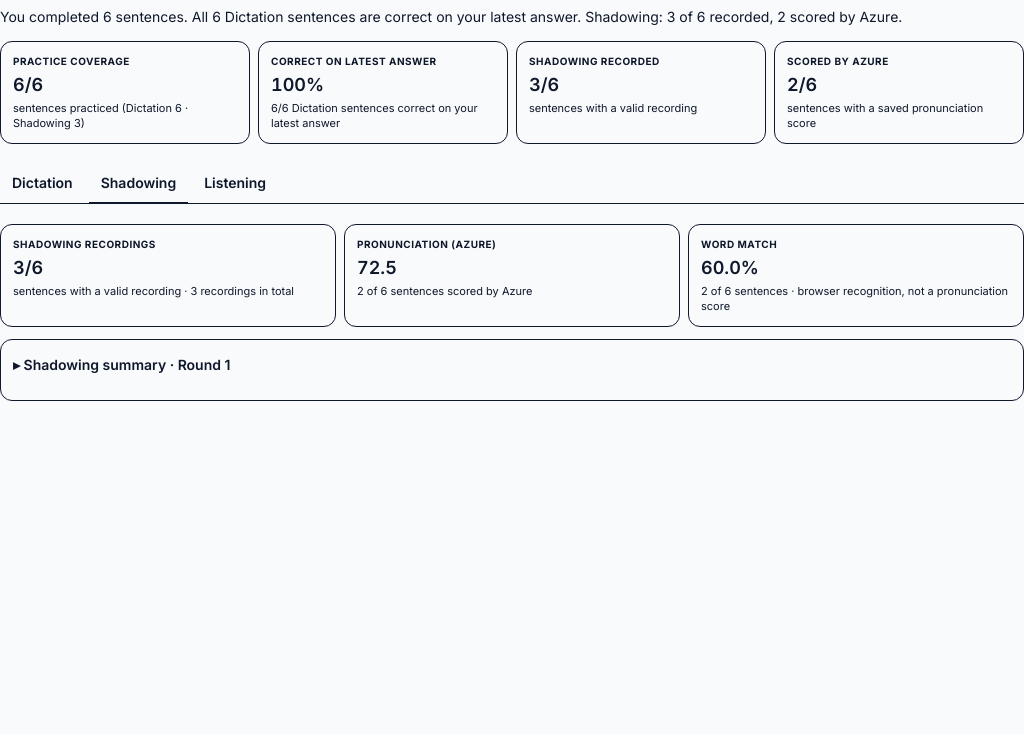
loading › collapsed (History): nothing is downloaded until opened, then exactly this round
Click the button "▸ Shadowing summary · Round 1": (122, 365) [13,355,1011,375]
(page scrolled)
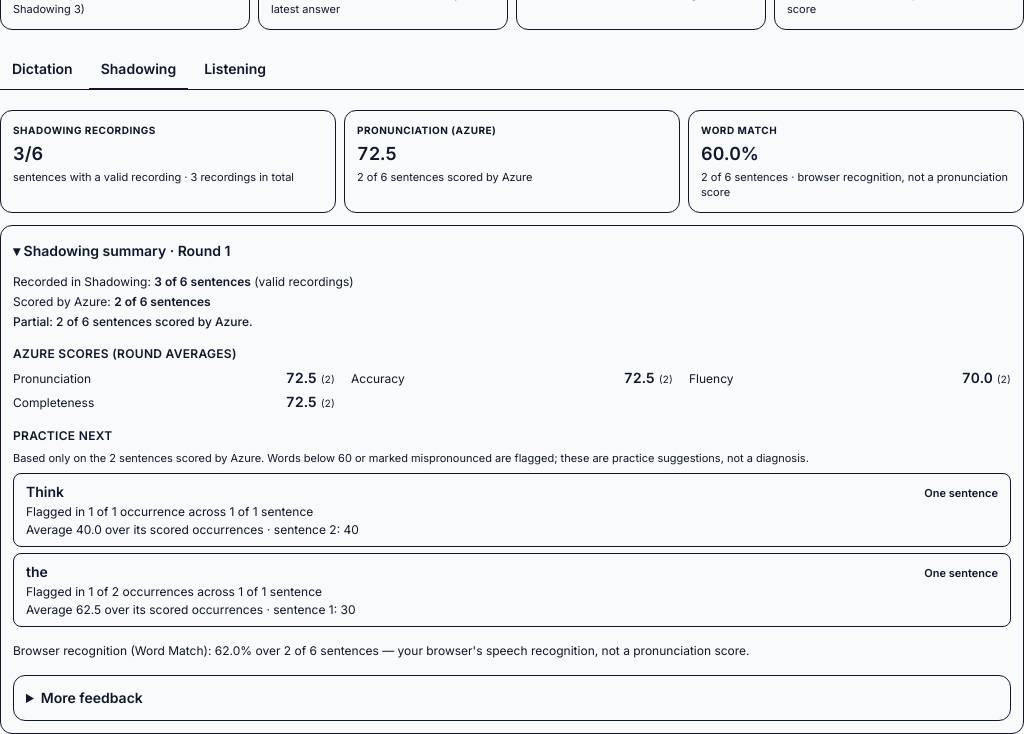
Expected: the element with test id "shadowing-summary" is shown, [13,274,1011,721]
